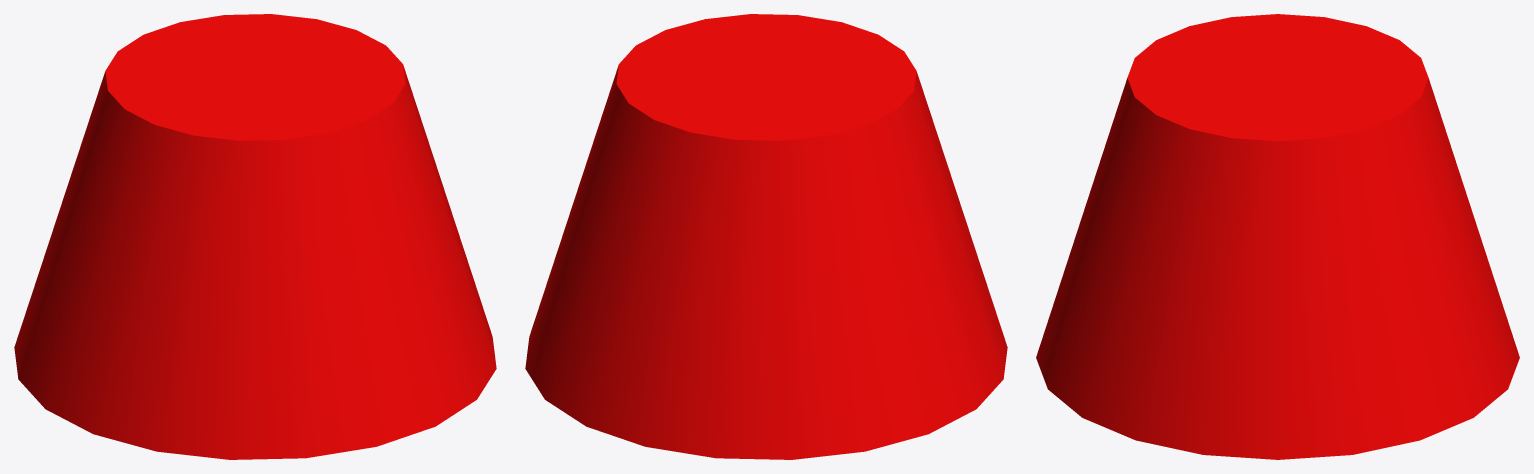
Rendered from magnet1.fbx.
3 views of the same model, side by side, from view 1: azimuth 30°, elevation 25°; view 2: azimuth 150°, elevation 25°; view 3: azimuth 270°, elevation 25° (orthographic).
Visible parts, largest first — view 1: pCylinder1; view 2: pCylinder1; view 3: pCylinder1.
Part boxes in pixels (left/top/right/bottom): pCylinder1: left=14, top=14, right=496, bottom=459; pCylinder1: left=525, top=14, right=1007, bottom=459; pCylinder1: left=1036, top=14, right=1519, bottom=459.
Size of the model in its own units: 80 by 51.09 by 80.
